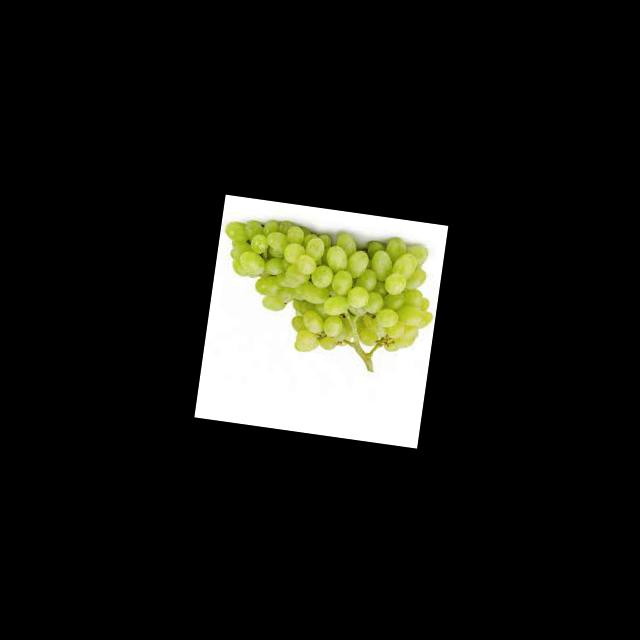grape: (208, 212, 442, 380)
